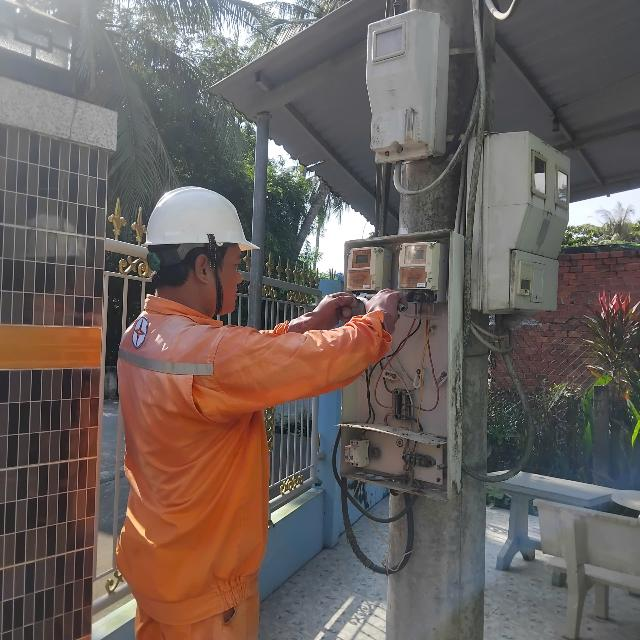gloves: (271, 291, 369, 339), (362, 283, 419, 357)
helmet: (122, 178, 277, 265)
